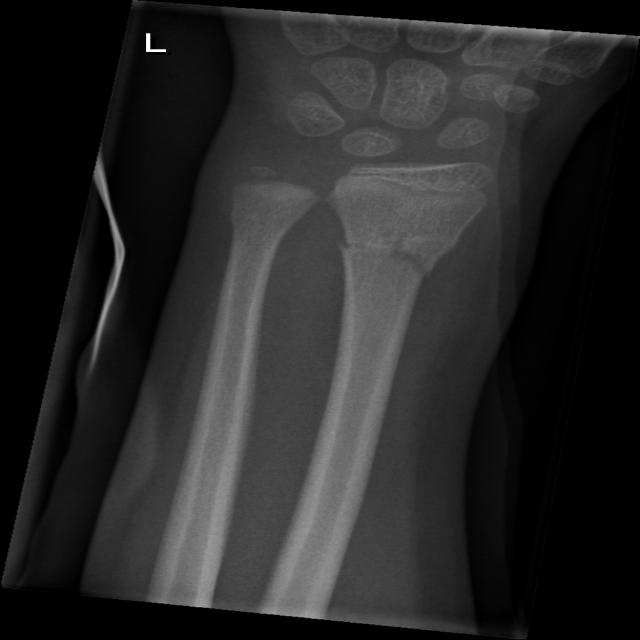radius fracture: (319, 208, 484, 412)
